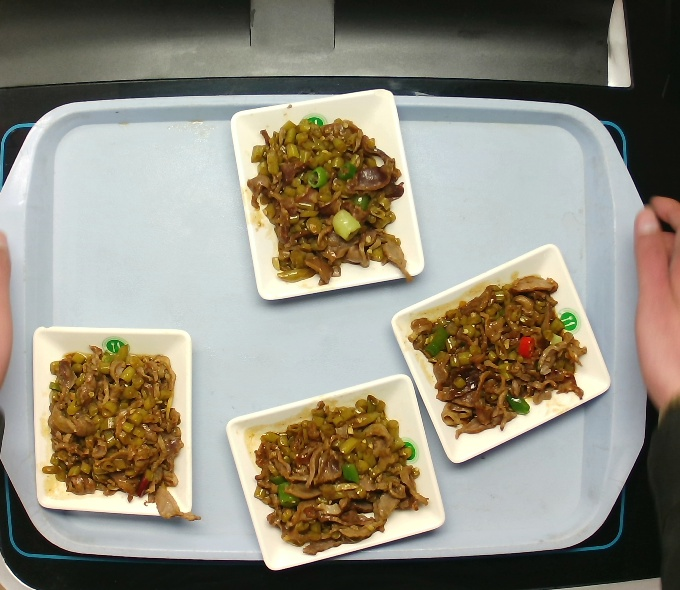wcq-JiZhen: (405, 271, 591, 442), (38, 339, 204, 525), (244, 112, 416, 291), (250, 391, 431, 557)
